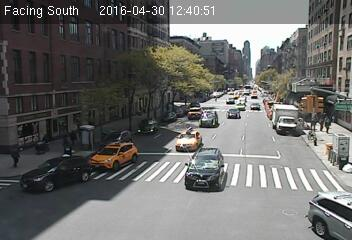neg: (105, 70, 120, 90), (188, 152, 203, 171), (151, 203, 166, 222), (262, 178, 276, 197), (63, 164, 76, 181), (109, 127, 121, 143), (193, 194, 205, 210), (30, 16, 42, 32), (155, 169, 165, 183), (184, 32, 194, 44), (233, 96, 242, 107), (245, 61, 253, 72), (133, 56, 141, 66), (336, 155, 342, 164), (107, 162, 113, 171), (115, 206, 121, 215), (246, 95, 252, 102)
pos: (6, 144, 24, 168), (64, 127, 80, 148), (57, 130, 69, 146), (324, 117, 334, 130), (318, 115, 328, 128), (310, 112, 320, 125)
